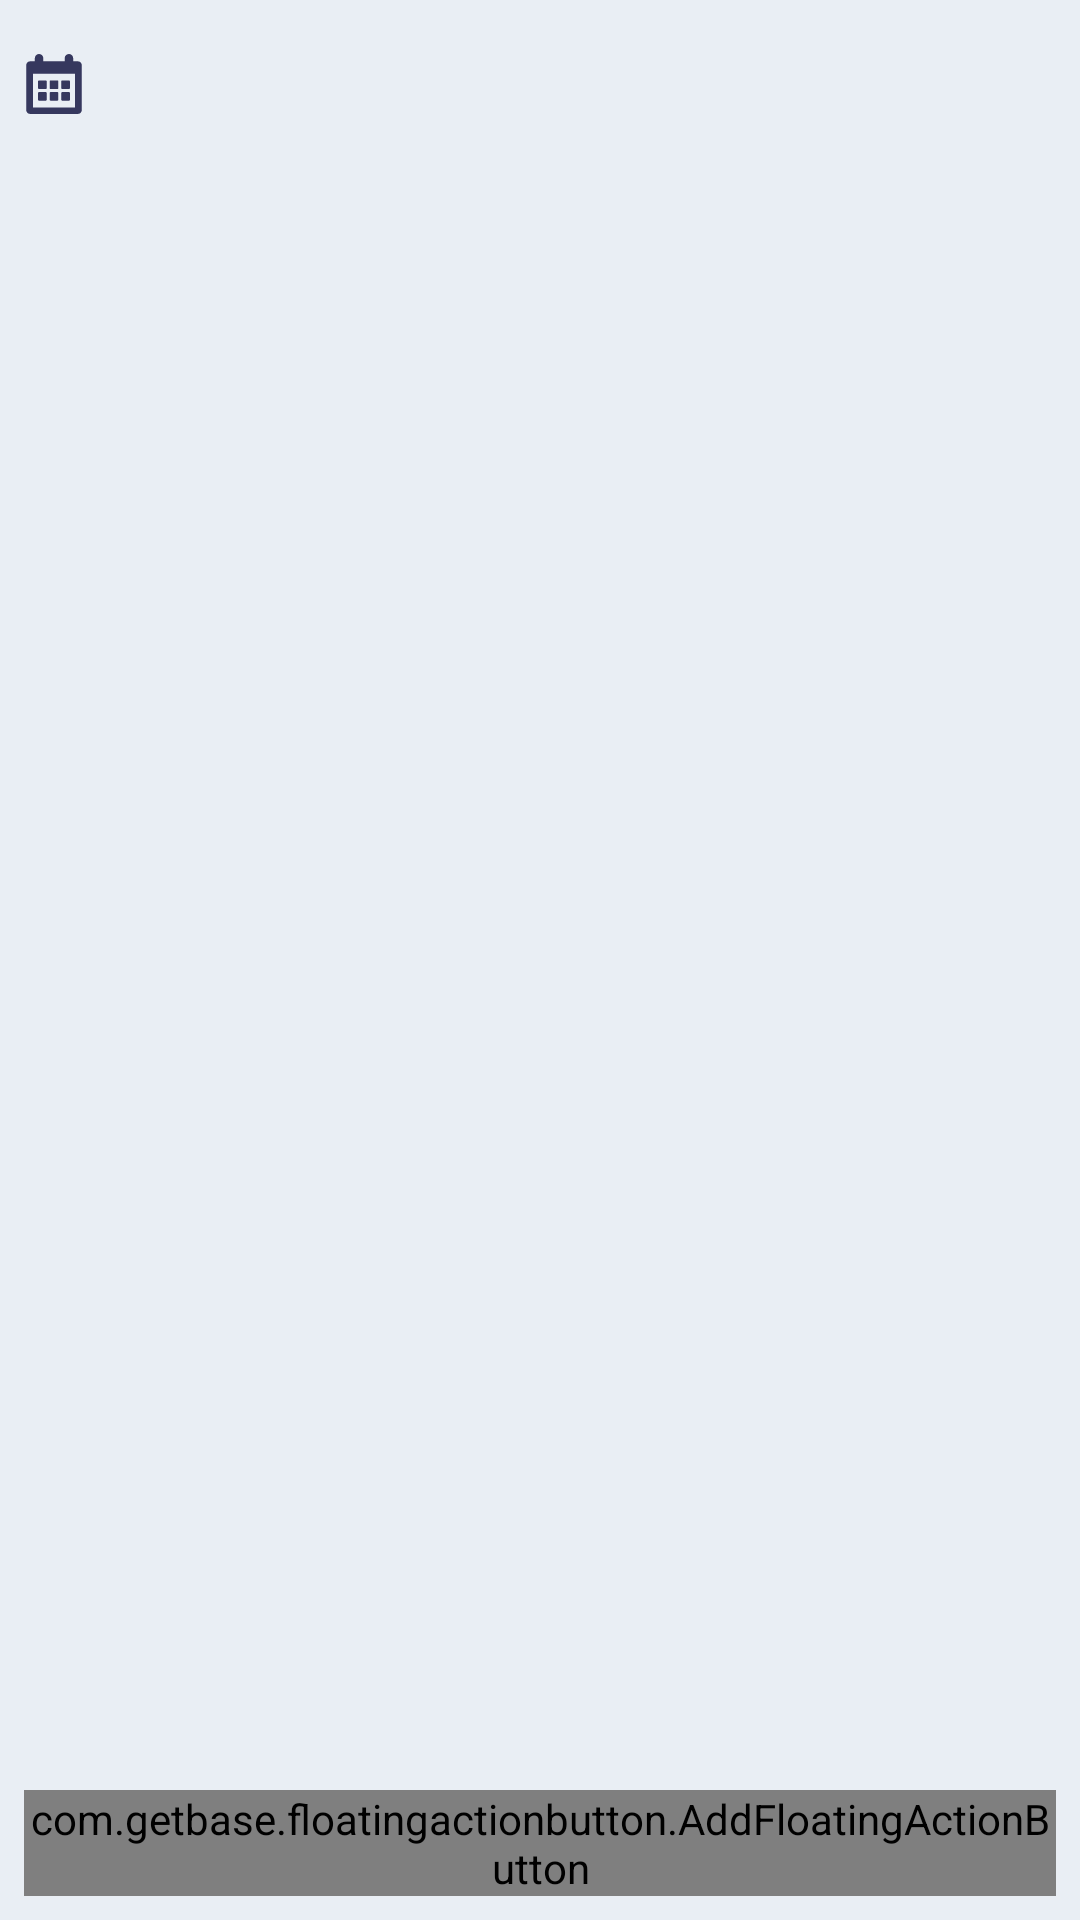

Named icons in this screenshot (1080px×1920px) and their centers, point (x, y):
date: point (54, 84)
